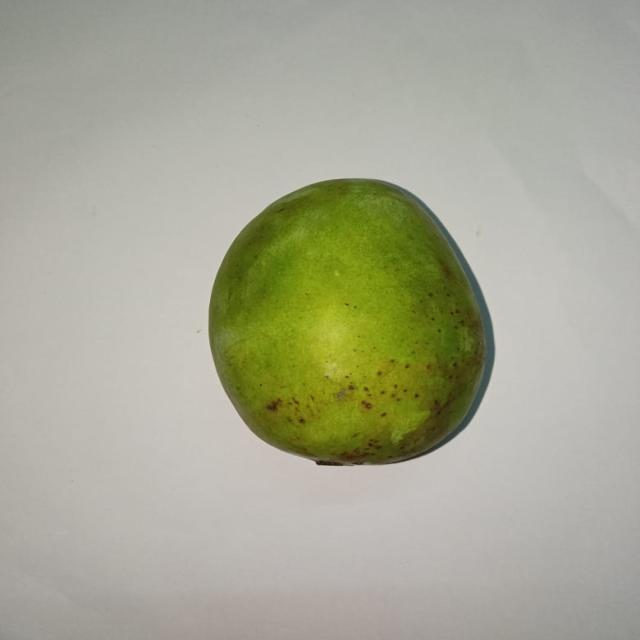fresh_mango: (207, 176, 487, 466)
